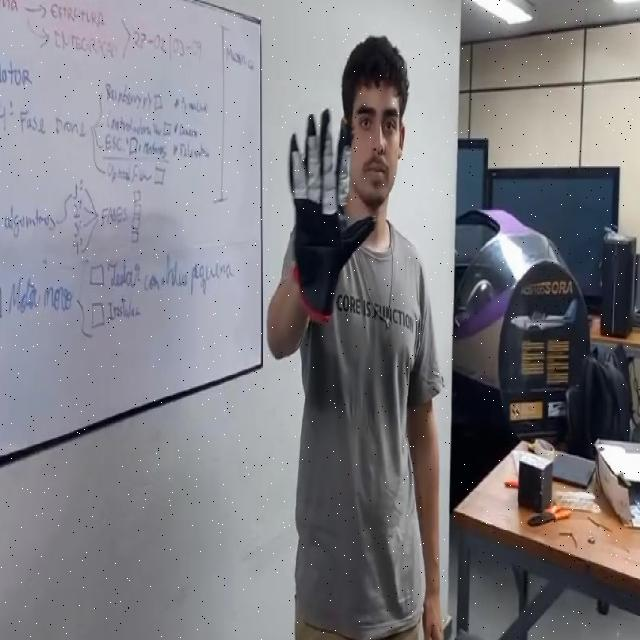Gloves: (279, 107, 385, 314)
